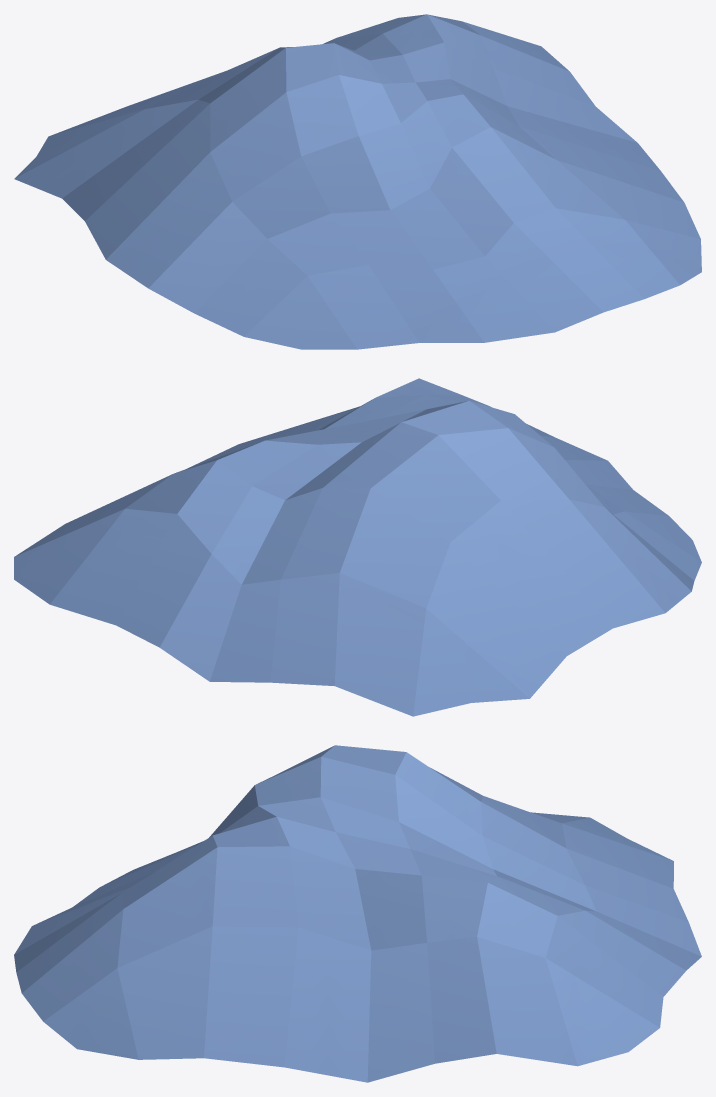
The model's file is SM_SnowPile1.fbx.
3 renders of one model, top to bottom at view 1: azimuth 30°, elevation 25°; view 2: azimuth 150°, elevation 25°; view 3: azimuth 270°, elevation 25°, orthographic.
Visible parts, largest first — view 1: SM_SnowPile1; view 2: SM_SnowPile1; view 3: SM_SnowPile1.
Part boxes in pixels (x1=…): SM_SnowPile1: x1=14, y1=14, x2=701, y2=349; SM_SnowPile1: x1=14, y1=378, x2=701, y2=716; SM_SnowPile1: x1=14, y1=745, x2=701, y2=1082.
Bounding box in the file's own units: 368 × 113 × 397.
